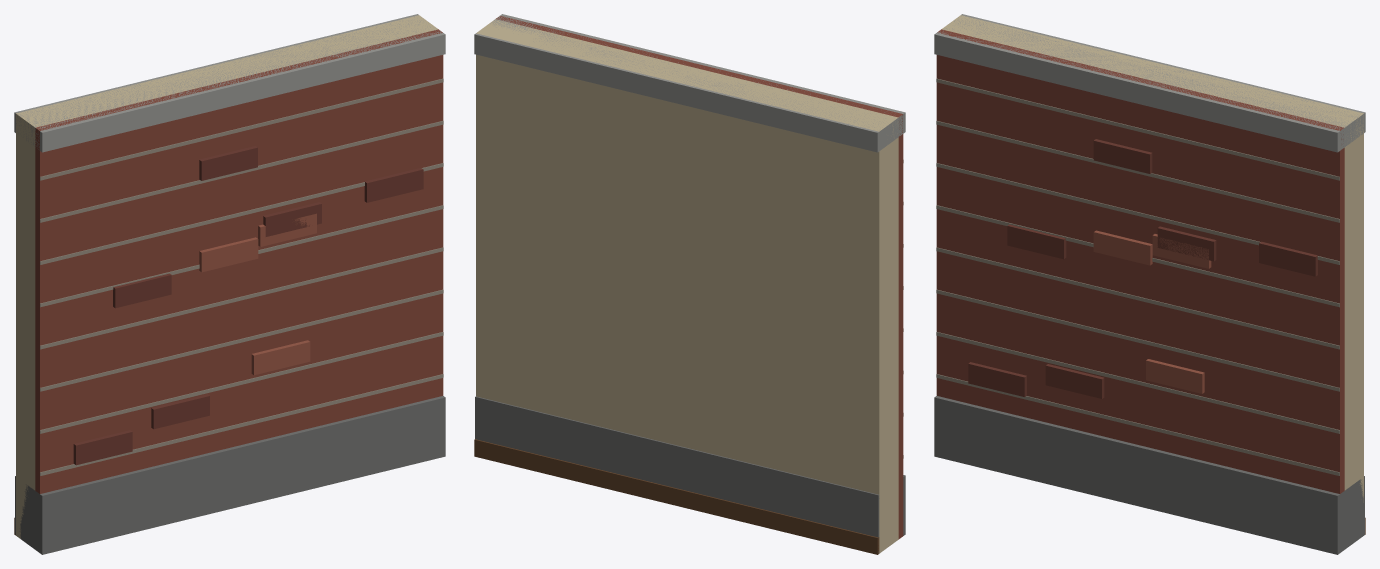
The model's file is SM_Bld_Wall_Brick_01.glb.
3 renders of one model, left to right at view 1: azimuth 30°, elevation 25°; view 2: azimuth 150°, elevation 25°; view 3: azimuth 330°, elevation 25°, orthographic.
Parts seen in each view (by area): view 1: SM_Bld_Wall_Brick_01; view 2: SM_Bld_Wall_Brick_01; view 3: SM_Bld_Wall_Brick_01.
Boxes of the visible parts, bbox=[...] form: SM_Bld_Wall_Brick_01: bbox=[14, 14, 445, 554]; SM_Bld_Wall_Brick_01: bbox=[474, 14, 905, 554]; SM_Bld_Wall_Brick_01: bbox=[934, 14, 1365, 554].
Size of the model in its own units: 3 by 3 by 0.36.
Materials: 1 (1 with a texture image).
